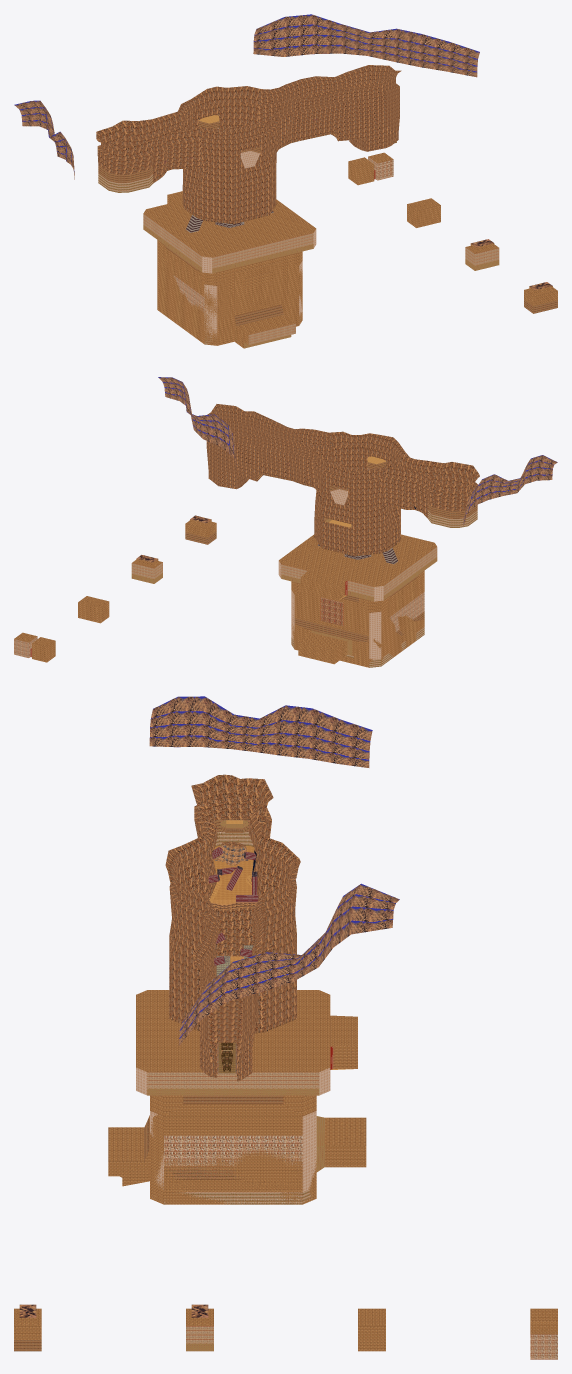
The model's file is WildCanyon.obj.
The picture shows the model from 3 angles, top to bottom: view 1: azimuth 30°, elevation 25°; view 2: azimuth 150°, elevation 25°; view 3: azimuth 270°, elevation 25°; orthographic projection. The views are drawn at different scales.
Bounding box in the file's own units: 2788 × 1533 × 1960.
33 materials, 33 textured.
